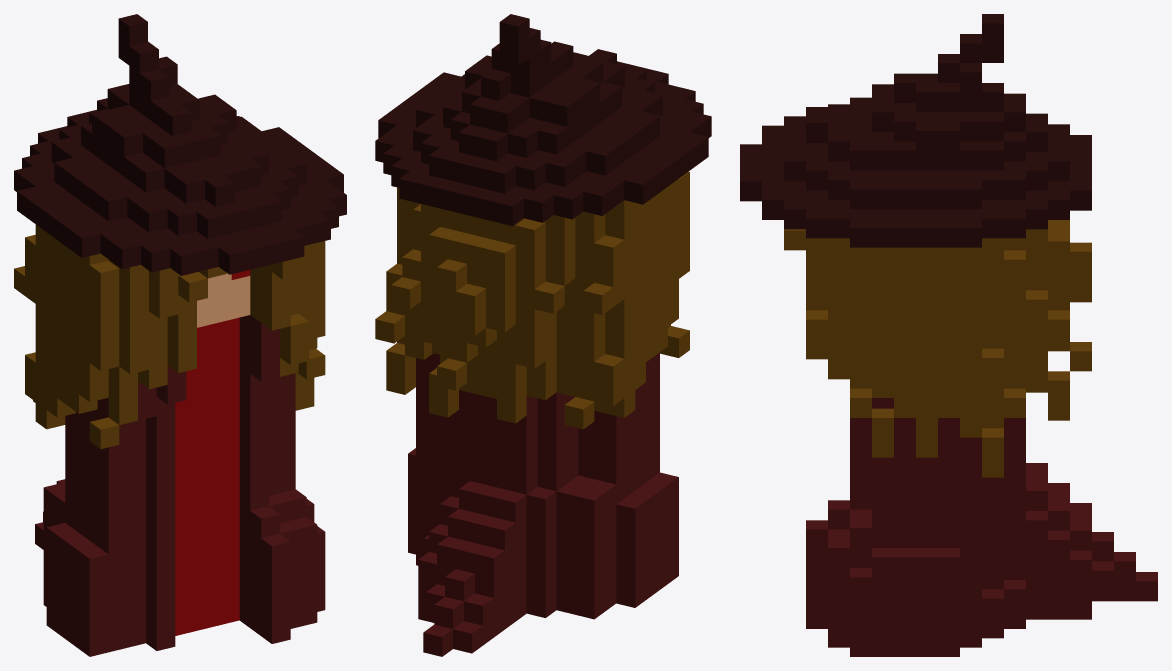
File: Bruxa 02 - Andando-01.obj
3 views of the same model, side by side, from view 1: azimuth 30°, elevation 25°; view 2: azimuth 150°, elevation 25°; view 3: azimuth 270°, elevation 25° (orthographic).
Size of the model in its own units: 14 by 29 by 19.
Materials: 1 (1 with a texture image).
